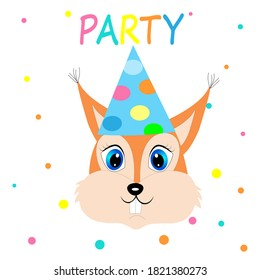animal: (64, 67, 218, 226)
